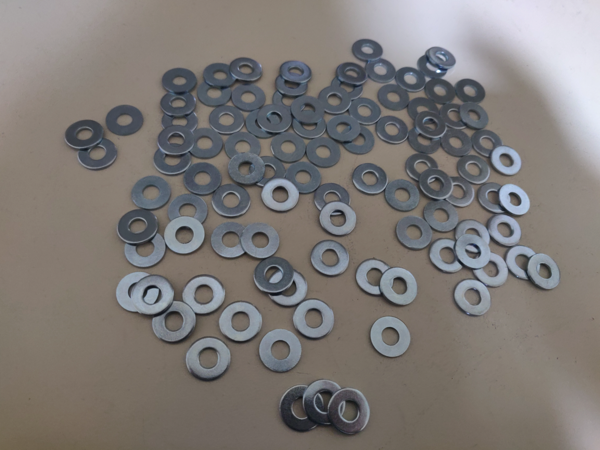circle: (280, 385, 325, 435), (327, 387, 371, 435), (303, 379, 346, 427), (186, 338, 231, 383), (259, 330, 303, 374), (153, 301, 197, 344), (219, 301, 263, 343), (293, 299, 336, 341), (370, 317, 412, 360), (182, 275, 226, 316), (117, 272, 159, 314), (252, 256, 295, 296), (267, 268, 309, 308), (134, 276, 174, 317), (165, 217, 207, 256), (380, 268, 420, 308), (309, 239, 351, 277), (210, 221, 249, 261), (125, 232, 166, 270), (117, 210, 159, 247), (355, 258, 395, 296), (261, 177, 303, 213), (130, 176, 172, 211), (428, 237, 465, 276), (77, 138, 119, 172), (454, 280, 492, 317), (473, 252, 510, 290), (168, 194, 208, 229), (286, 160, 324, 196), (242, 223, 280, 259), (395, 216, 433, 252), (385, 177, 422, 213), (505, 245, 542, 281), (455, 235, 492, 271), (423, 199, 460, 235), (250, 155, 288, 190), (184, 162, 223, 196), (65, 118, 105, 151), (456, 218, 492, 254), (320, 202, 357, 237), (155, 142, 192, 177), (213, 185, 251, 219), (207, 103, 246, 136), (488, 213, 523, 249), (352, 162, 389, 196), (105, 105, 144, 137), (405, 152, 441, 186), (528, 253, 561, 290), (157, 124, 196, 155), (314, 184, 351, 216), (229, 153, 266, 185), (162, 107, 200, 138), (224, 133, 262, 164), (420, 169, 454, 202), (189, 127, 223, 160), (457, 152, 492, 184), (307, 137, 343, 168), (161, 66, 199, 95), (259, 103, 292, 136), (243, 108, 277, 140), (408, 124, 443, 155), (424, 77, 459, 108), (160, 90, 197, 119), (491, 145, 524, 177), (438, 99, 471, 131), (441, 126, 474, 158), (499, 184, 531, 217), (272, 85, 305, 117), (471, 128, 505, 159), (272, 132, 306, 163), (443, 177, 476, 208), (478, 183, 511, 214), (327, 115, 362, 144), (292, 110, 327, 139), (377, 83, 411, 112), (292, 95, 326, 124), (198, 79, 232, 108), (232, 84, 267, 112), (349, 97, 382, 126), (342, 126, 375, 155), (375, 116, 409, 144), (230, 56, 264, 84), (203, 63, 238, 90), (319, 87, 352, 115), (331, 74, 364, 102), (408, 96, 439, 125), (395, 66, 429, 92), (275, 72, 309, 98), (416, 111, 447, 139), (456, 78, 487, 105), (417, 53, 449, 79), (280, 60, 314, 84), (365, 58, 396, 84), (336, 62, 368, 87), (425, 46, 458, 70), (351, 38, 384, 62)
